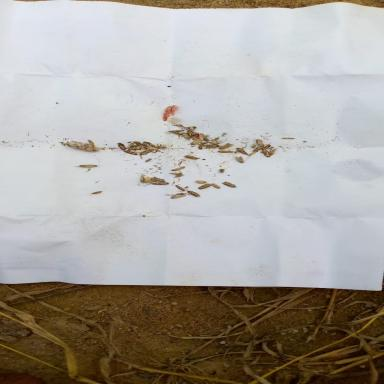pbw: (187, 190, 203, 199), (220, 180, 237, 188), (149, 175, 165, 182), (235, 147, 249, 155), (148, 181, 168, 186), (233, 155, 245, 163), (216, 143, 232, 149), (254, 138, 263, 148), (170, 193, 185, 199), (197, 183, 212, 189), (115, 142, 126, 150), (190, 138, 202, 145), (260, 144, 273, 150), (173, 184, 184, 191), (201, 143, 220, 147), (73, 164, 97, 167), (166, 129, 184, 133), (144, 141, 156, 147), (182, 155, 199, 159), (179, 132, 190, 138), (124, 150, 137, 155), (197, 132, 205, 140), (138, 150, 154, 154), (171, 166, 186, 170), (210, 182, 220, 188), (213, 150, 232, 153), (139, 141, 147, 148), (90, 190, 102, 194), (254, 146, 262, 152), (187, 129, 193, 136), (267, 149, 274, 155), (260, 150, 268, 155), (127, 144, 133, 150), (132, 141, 142, 144), (198, 143, 202, 149)
